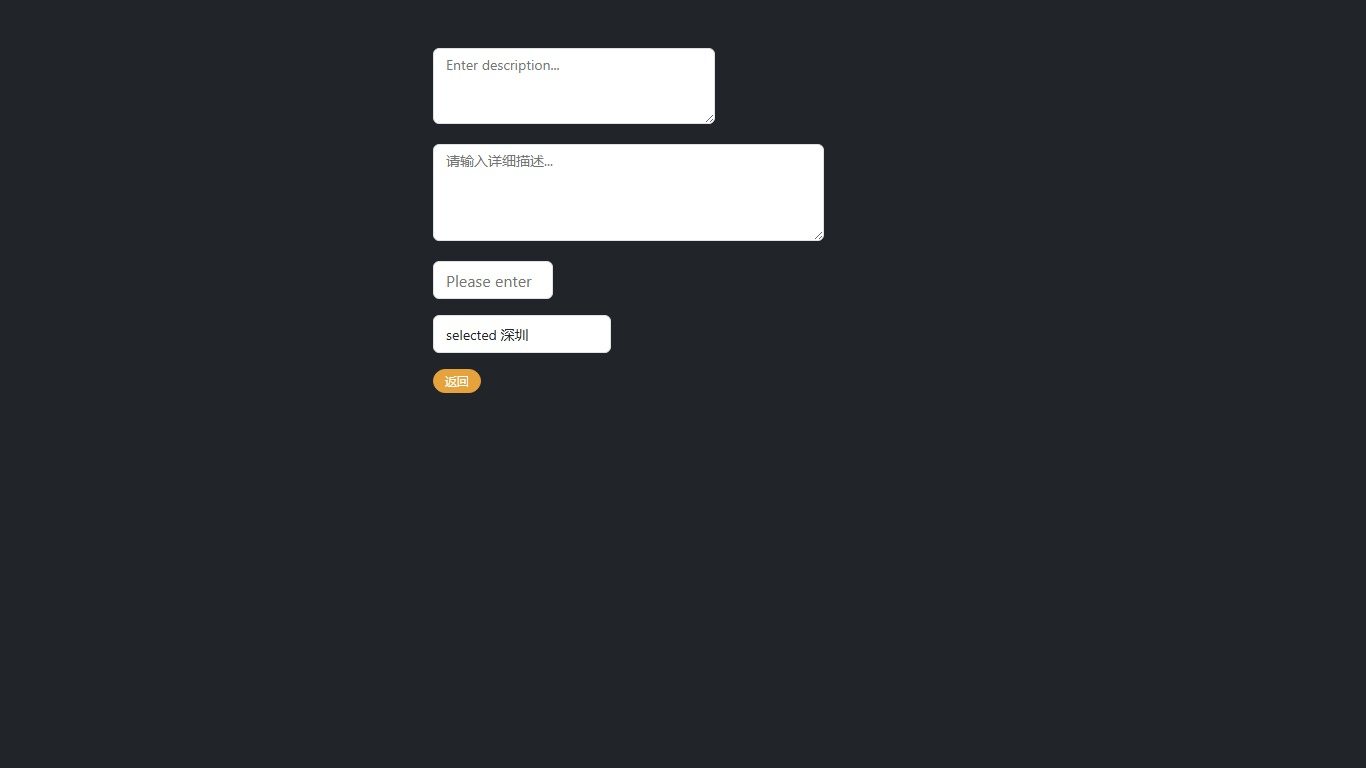button: (433, 369, 481, 393)
input: (433, 261, 553, 299)
select: (433, 315, 611, 353)
textarea: (433, 144, 824, 241), (433, 48, 715, 124)
